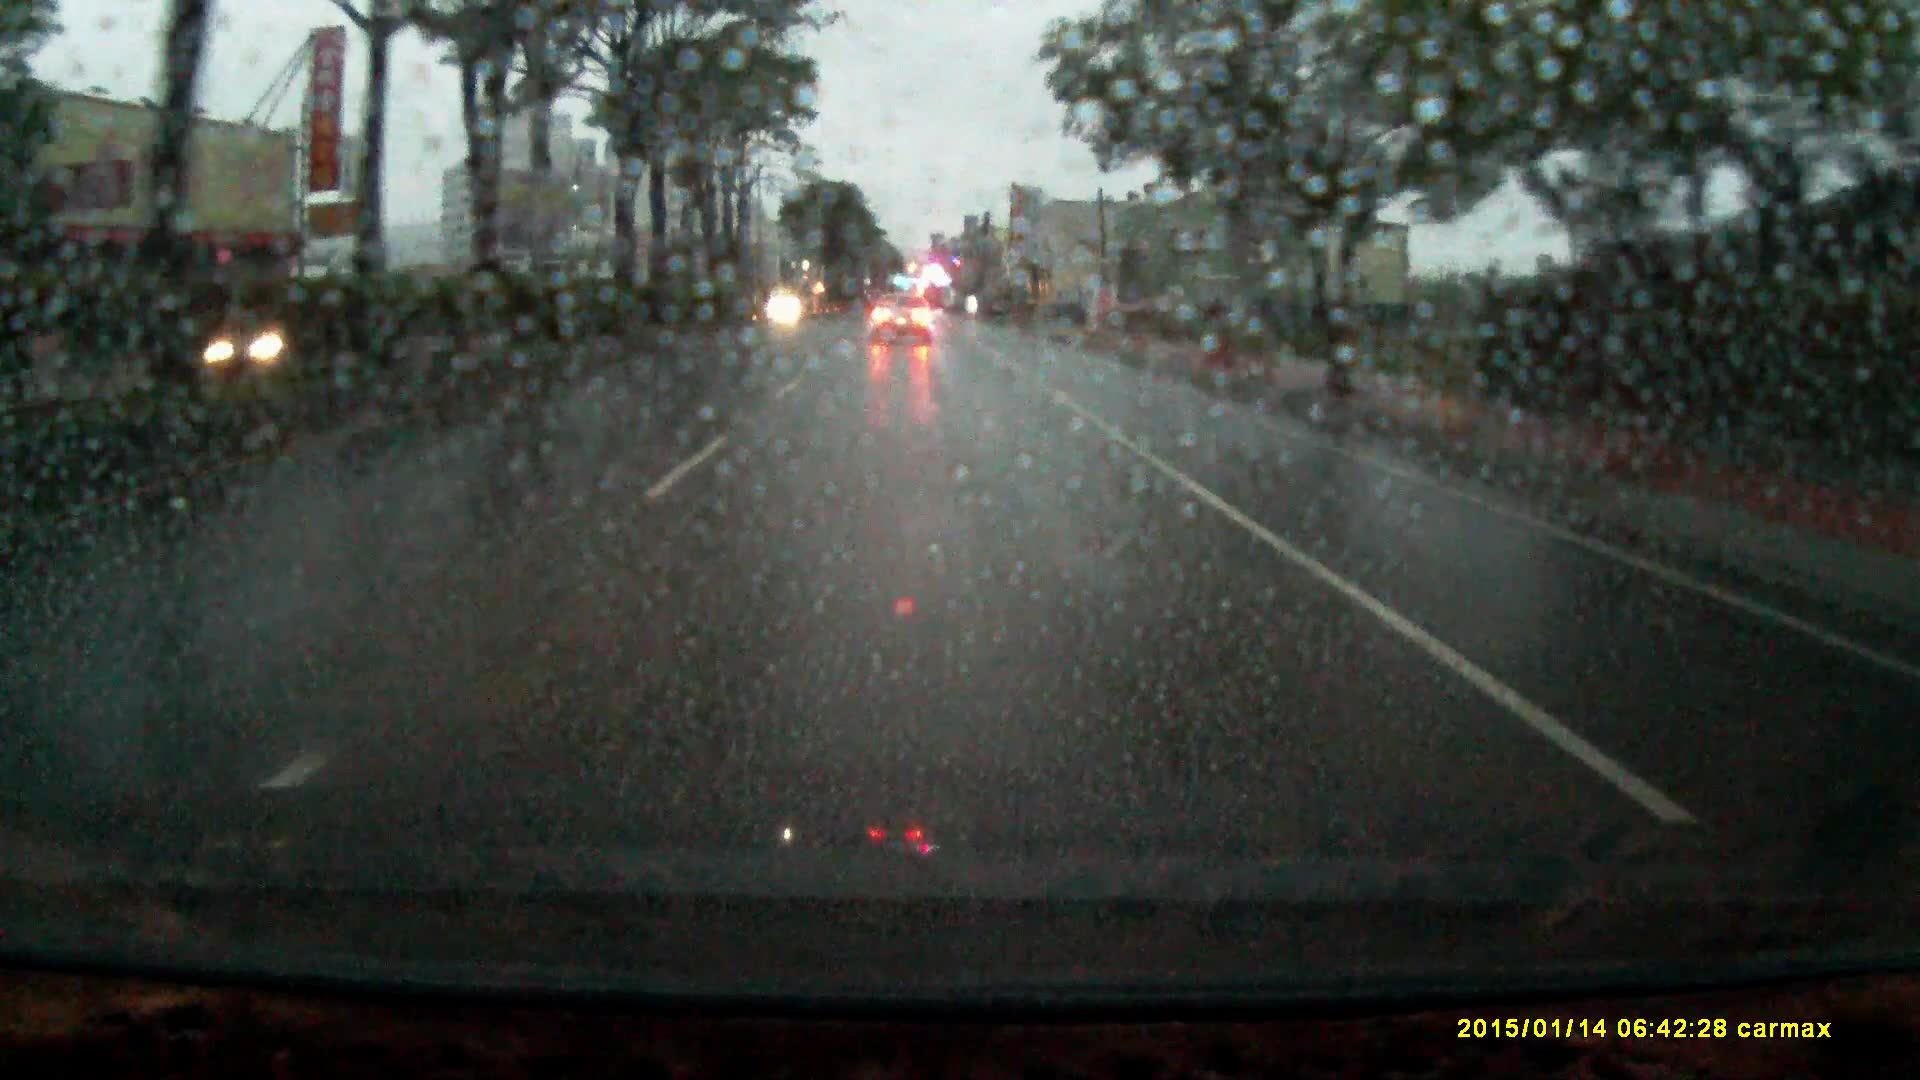vehicle: (874, 298, 936, 342)
